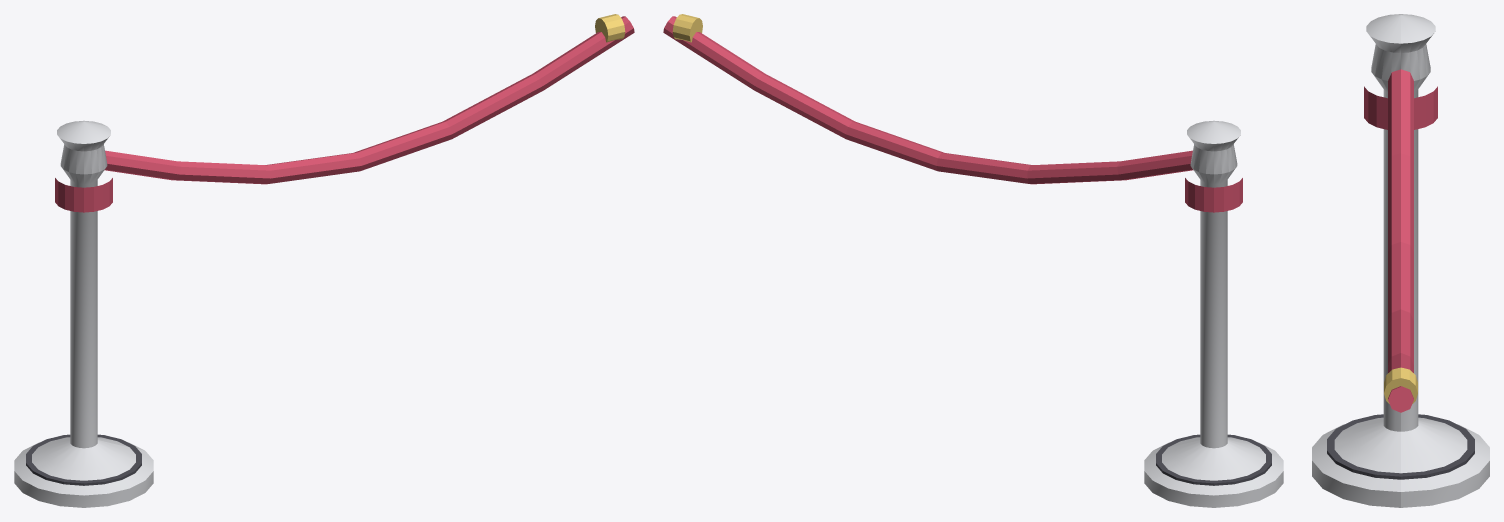
The model's file is cinema-multiplex-and-foyer-rope-barrier-post-21c628b9__34683.glb.
The picture shows the model from 3 angles, left to right: view 1: azimuth 30°, elevation 25°; view 2: azimuth 150°, elevation 25°; view 3: azimuth 270°, elevation 25°; orthographic projection. The views are drawn at different scales.
Parts seen in each view (by area): view 1: rope-barrier-post; view 2: rope-barrier-post; view 3: rope-barrier-post.
Boxes of the visible parts, box(x1,y1,x2,y2) form: rope-barrier-post: box(14, 14, 634, 507); rope-barrier-post: box(663, 14, 1283, 507); rope-barrier-post: box(1312, 14, 1489, 507).
Bounding box in the file's own units: 1.79 × 1 × 0.3545.
